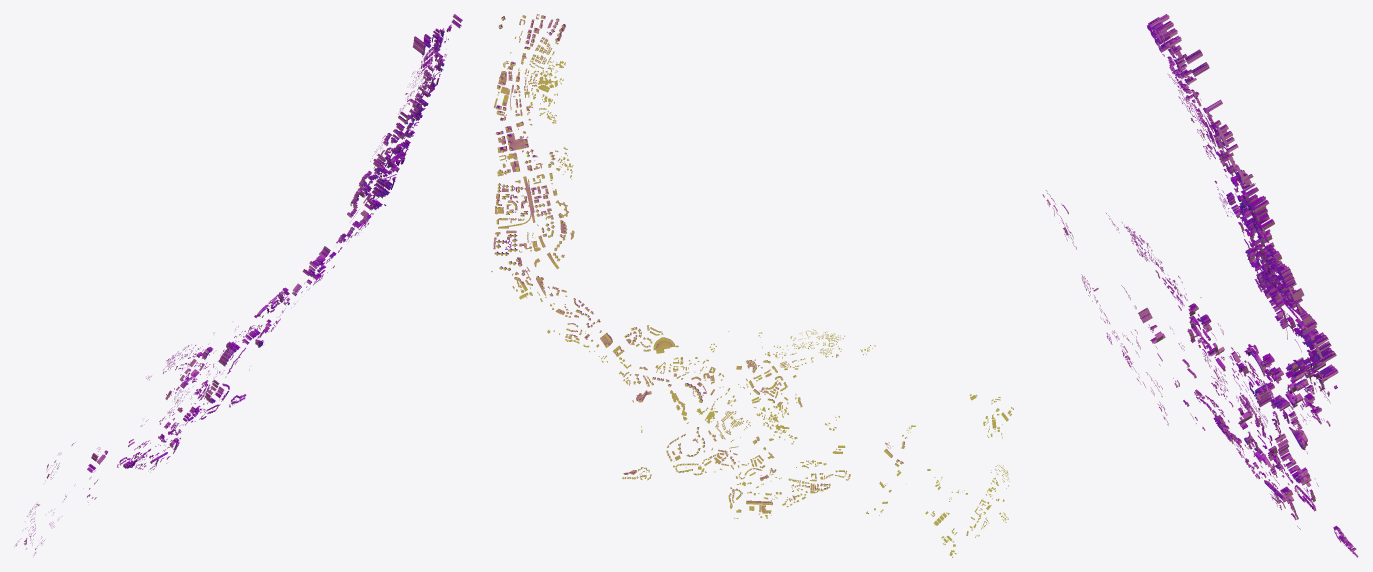
3 renders of one model, left to right at view 1: azimuth 30°, elevation 25°; view 2: azimuth 150°, elevation 25°; view 3: azimuth 270°, elevation 25°, orthographic. The views are drawn at different scales.
Visible parts, largest first — view 1: geometry_0; view 2: geometry_0; view 3: geometry_0.
Boxes of the visible parts, x1,y1,x2,y2 form: geometry_0: (14,14,462,557); geometry_0: (491,14,1013,557); geometry_0: (1042,14,1358,557).
Bounding box in the file's own units: 5262 × 4589 × 1792.
